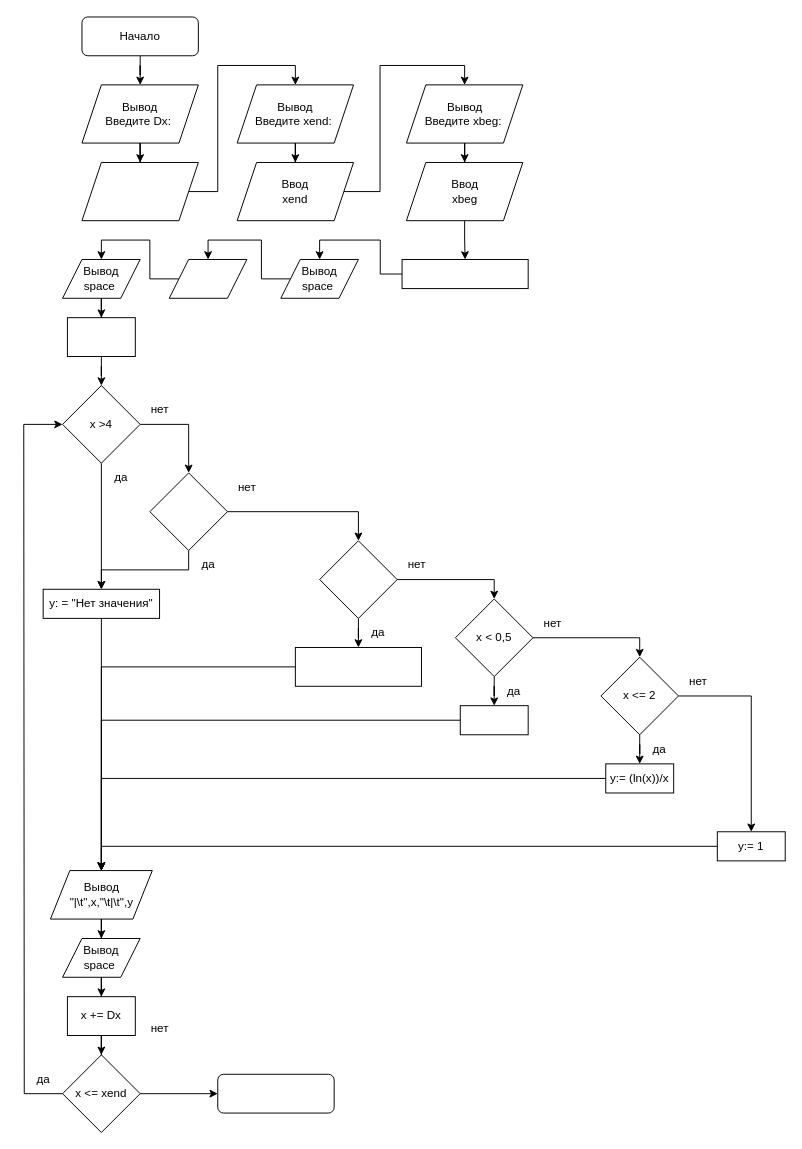
Some shapes in this 802 by 1149 pixel diagram are drawn without their labels. The shapes that lost their labels are listed below. From the top down, each one's centre as x and y in pixels, then its label:
(139,191): Ввод Dx
(207,278): Вывод |\tX\t|\tY
(464,274): space = "+\t---\t|\t---
(100,336): x = xbeg
(188,511): x < -4
(358,579): x < 0
(357,666): y:= (4 - (x+2)**2 )**0.5
(493,720): y:= 0
(275,1093): Конец
